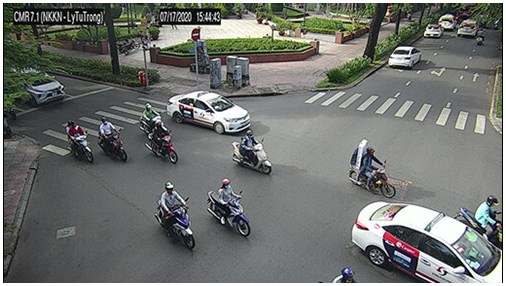xe_hoi: (22, 68, 66, 105), (389, 46, 422, 68), (424, 23, 444, 39), (438, 14, 456, 28)
xe_may: (349, 139, 396, 199), (155, 182, 195, 251), (451, 194, 502, 246), (208, 178, 251, 237), (231, 130, 272, 174), (97, 116, 128, 164), (147, 119, 179, 165), (64, 120, 94, 163), (139, 103, 161, 134), (320, 267, 357, 283), (117, 36, 140, 53), (475, 29, 486, 47), (493, 18, 501, 32)
xe_taxi: (350, 199, 502, 283), (167, 90, 251, 135), (457, 20, 480, 37)
